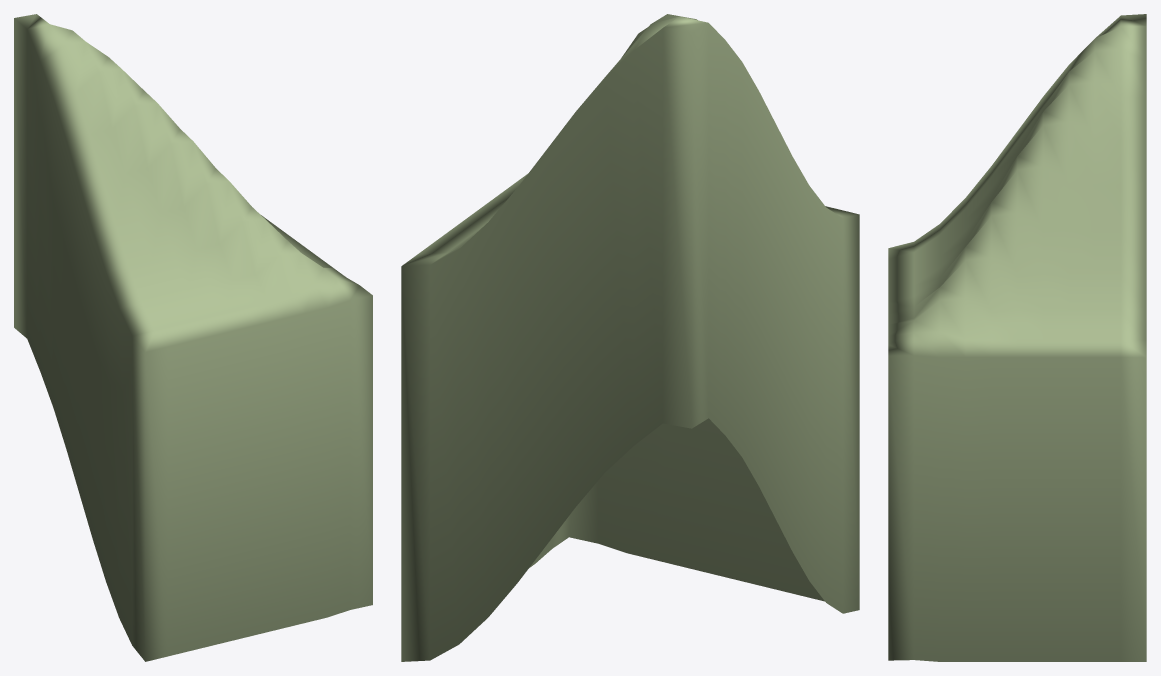
File: ground-corner-in.glb
3 renders of one model, left to right at view 1: azimuth 30°, elevation 25°; view 2: azimuth 150°, elevation 25°; view 3: azimuth 270°, elevation 25°, orthographic. The views are drawn at different scales.
Visible parts, largest first — view 1: ground-corner-in; view 2: ground-corner-in; view 3: ground-corner-in.
Part boxes in pixels (left/top/right/bottom): ground-corner-in: left=14, top=14, right=372, bottom=661; ground-corner-in: left=401, top=14, right=859, bottom=661; ground-corner-in: left=888, top=14, right=1146, bottom=661.
Bounding box in the file's own units: 1 × 2.3 × 1.
